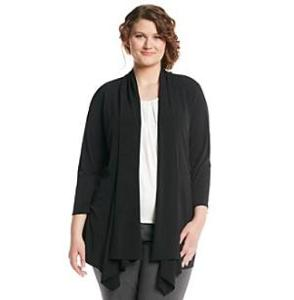S_cardigan sweater: (70, 66, 220, 272)
